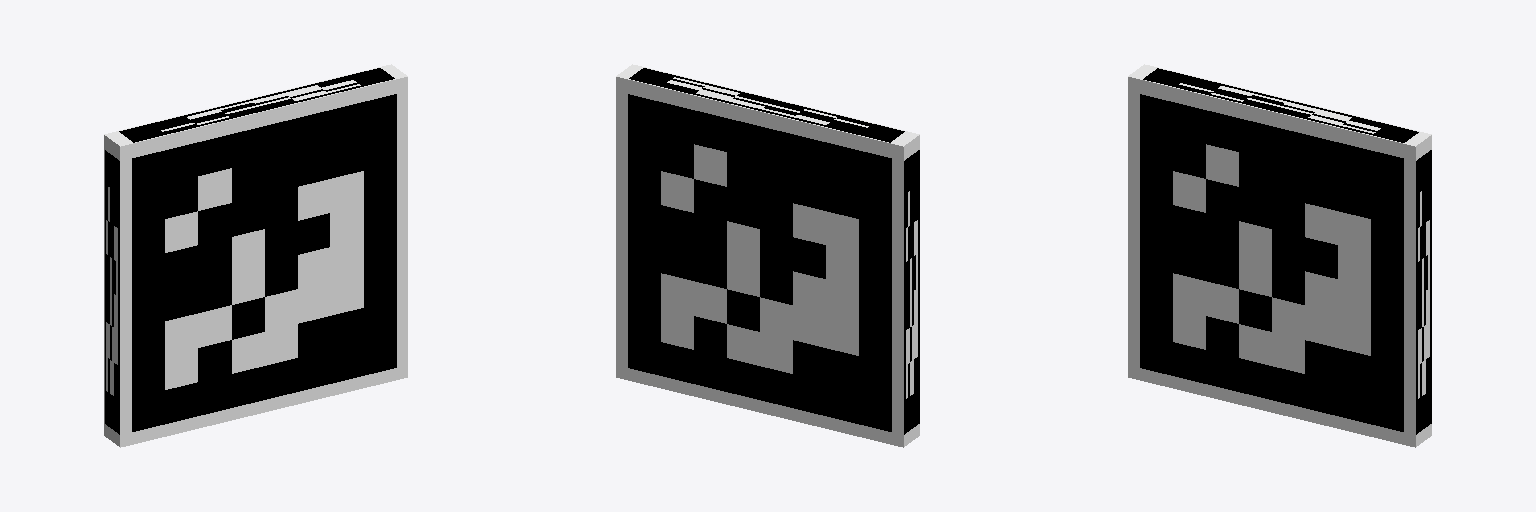
The picture shows the model from 3 angles: view 1: azimuth 30°, elevation 25°; view 2: azimuth 150°, elevation 25°; view 3: azimuth 330°, elevation 25°; orthographic projection.
Visible parts, largest first — view 1: Cube; view 2: Cube; view 3: Cube.
Boxes of the visible parts, x1,y1,x2,y2 form: Cube: [104, 64, 407, 447]; Cube: [616, 64, 919, 447]; Cube: [1128, 64, 1431, 447].
Bounding box in the file's own units: 2 × 2 × 0.2.
Materials: 1 (1 with a texture image).